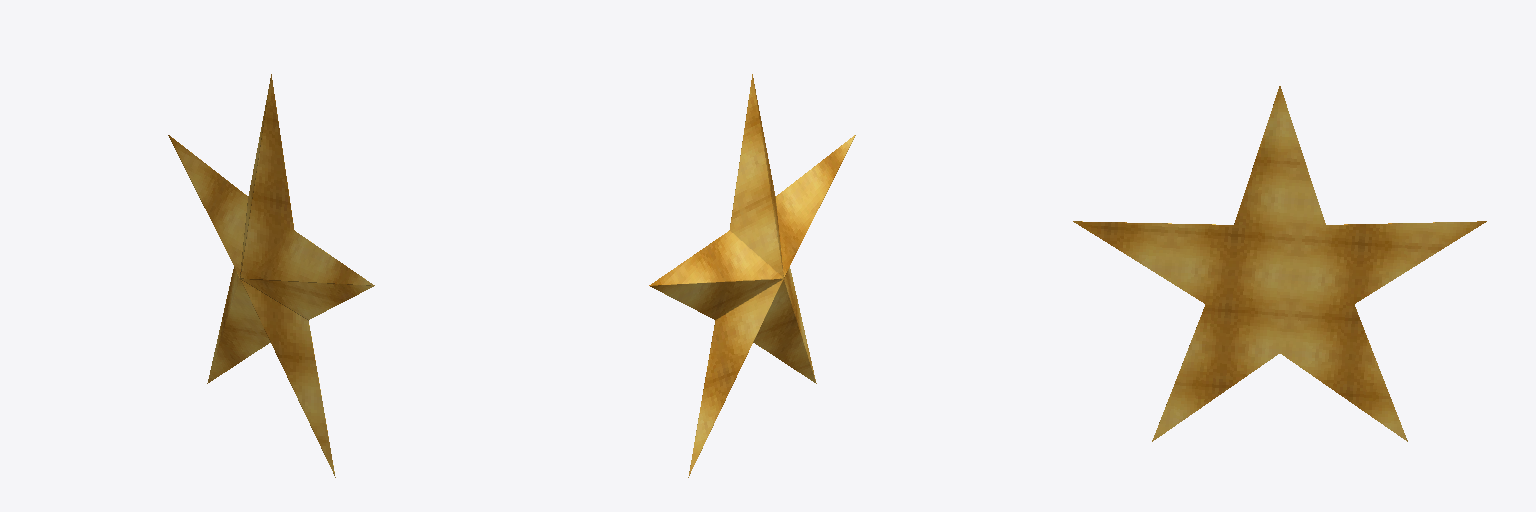
The picture shows the model from 3 angles: view 1: azimuth 30°, elevation 25°; view 2: azimuth 150°, elevation 25°; view 3: azimuth 270°, elevation 25°; orthographic projection.
Visible parts, largest first — view 1: Gold_Star:Star001; view 2: Gold_Star:Star001; view 3: Gold_Star:Star001.
Part boxes in pixels (left/top/right/bottom): Gold_Star:Star001: left=168, top=74, right=374, bottom=477; Gold_Star:Star001: left=649, top=74, right=855, bottom=477; Gold_Star:Star001: left=1073, top=86, right=1486, bottom=441.
Bounding box in the file's own units: 0.0759 × 0.8338 × 0.8767.
1 materials, 1 textured.